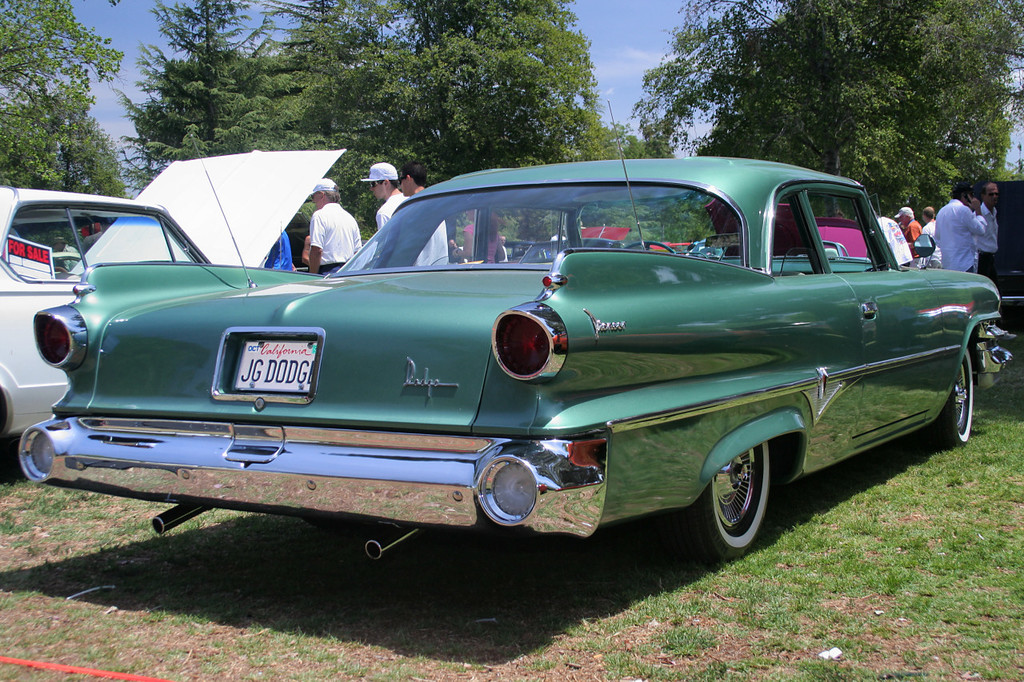Car: (16, 94, 1018, 559), (0, 147, 348, 472)
